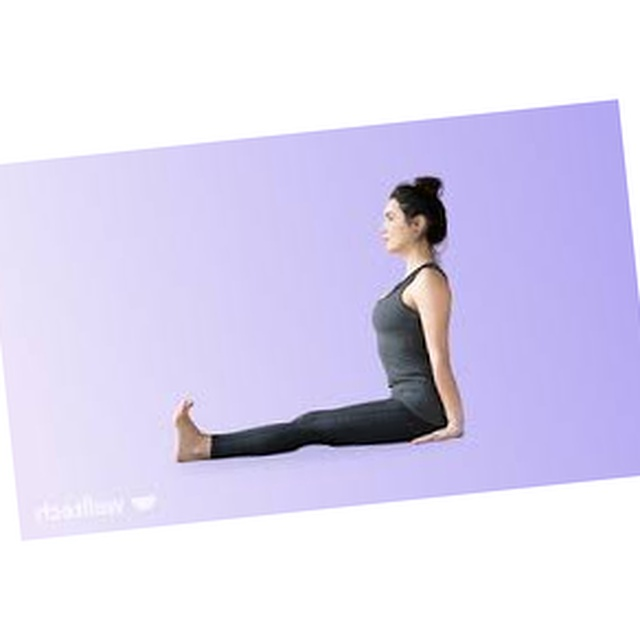Staff_Pose: (173, 177, 466, 462)
